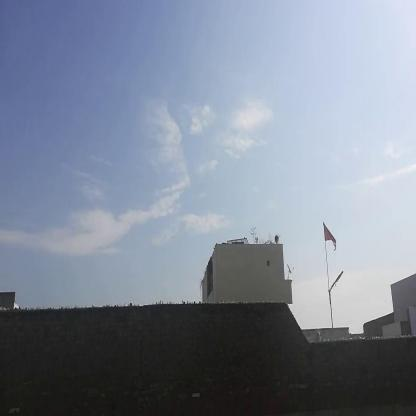other: (319, 213, 341, 256)
